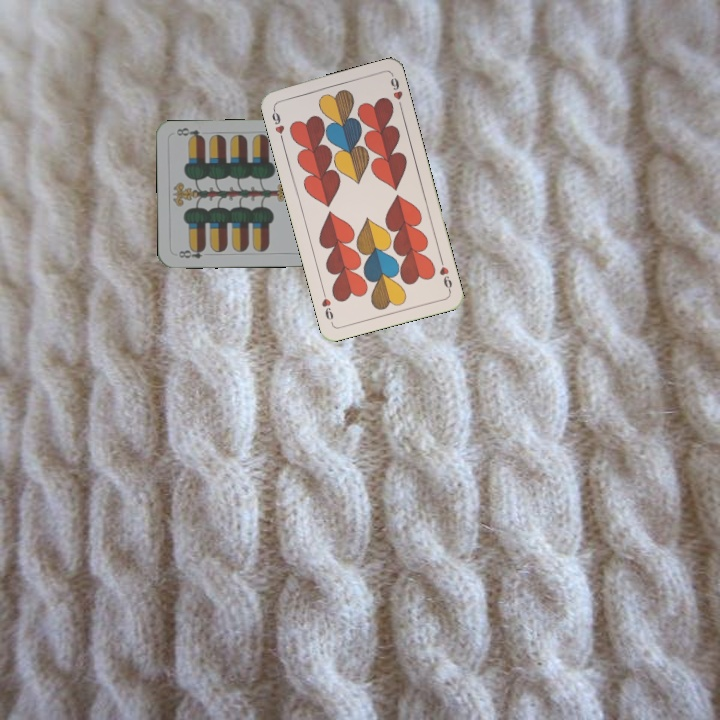E8: (172, 244, 208, 261)
H9: (435, 254, 455, 294), (268, 104, 287, 144)
